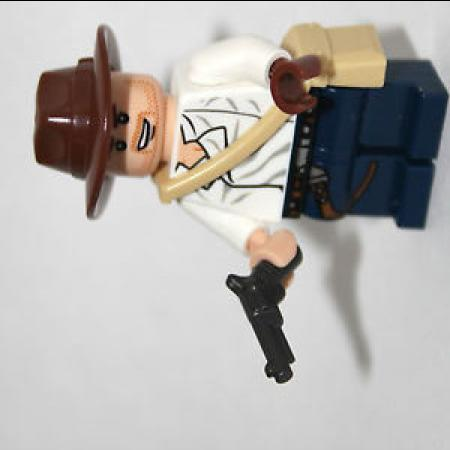Pistol: (224, 241, 304, 391)
